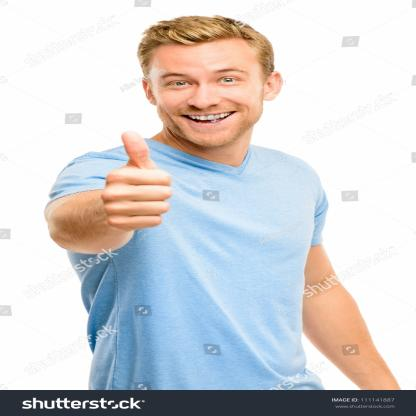Thumbs-Up: (102, 129, 177, 233)
